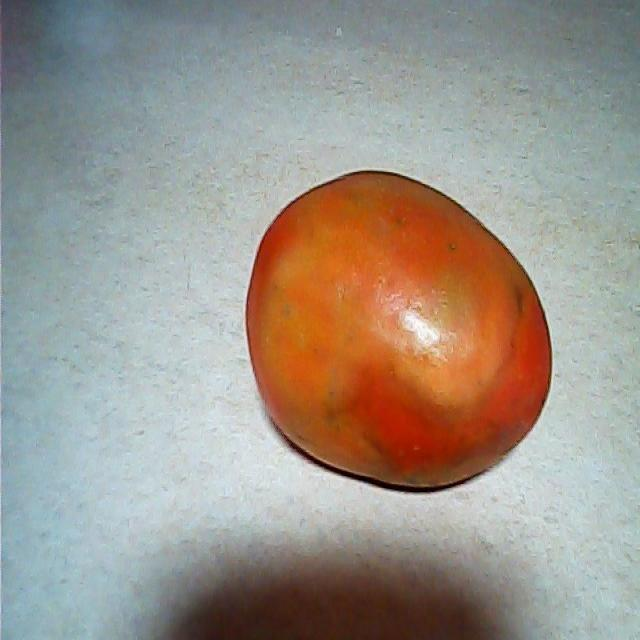verde: (247, 167, 554, 498)
